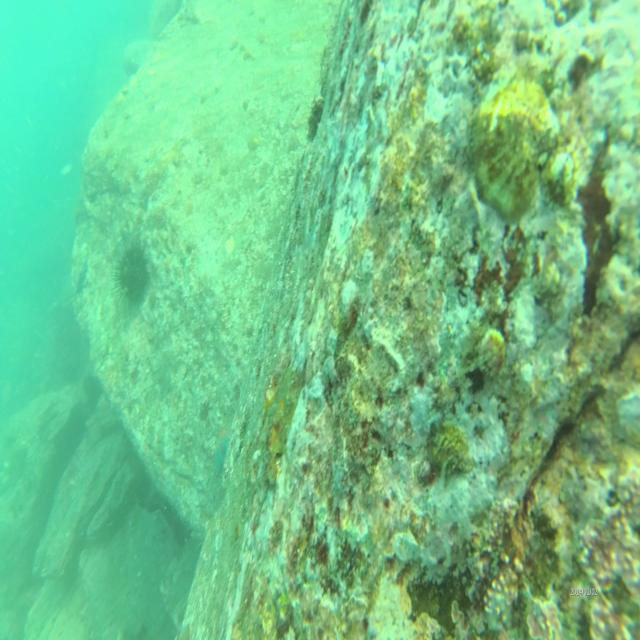echinus: (111, 240, 151, 310)
scallop: (468, 72, 559, 220)
